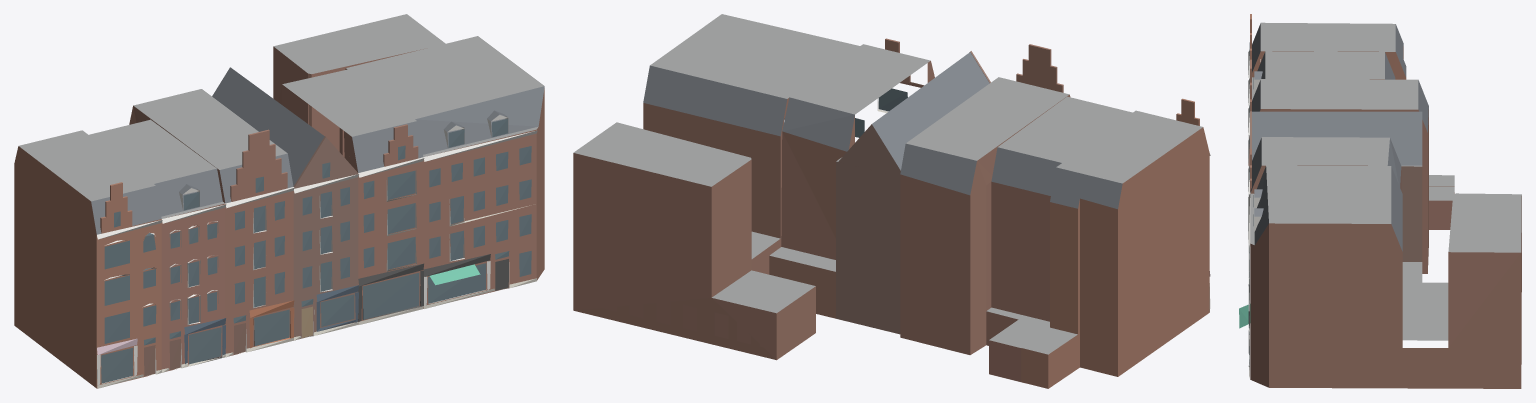
File: chunk-face-bilder-161259-236206.lod2.glb
3 views of the same model, side by side, from view 1: azimuth 30°, elevation 25°; view 2: azimuth 150°, elevation 25°; view 3: azimuth 270°, elevation 25° (orthographic). The views are drawn at different scales.
Parts seen in each view (by area): view 1: lod2; view 2: lod2; view 3: lod2.
Part boxes in pixels (x1,y1,x2,y2): lod2: [14, 14, 544, 388]; lod2: [573, 14, 1210, 388]; lod2: [1239, 14, 1521, 388].
Bounding box in the file's own units: 42.45 × 19.01 × 25.11.
